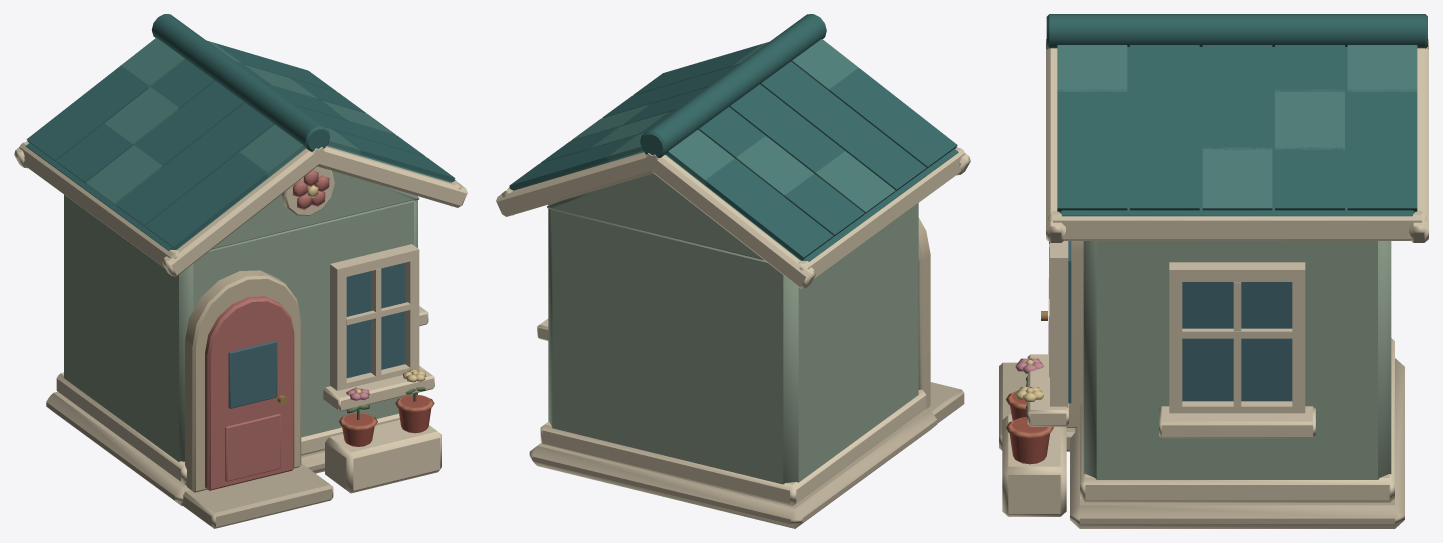
The model's file is florist_level_1.glb.
3 renders of one model, left to right at view 1: azimuth 30°, elevation 25°; view 2: azimuth 150°, elevation 25°; view 3: azimuth 270°, elevation 25°, orthographic. The views are drawn at different scales.
Visible parts, largest first — view 1: florist_level_1_runtime; view 2: florist_level_1_runtime; view 3: florist_level_1_runtime.
Boxes of the visible parts, x1,y1,x2,y2 form: florist_level_1_runtime: (14,14,467,528); florist_level_1_runtime: (496,14,970,528); florist_level_1_runtime: (999,14,1428,528).
Size of the model in its own units: 2.83 by 3.15 by 2.79.
